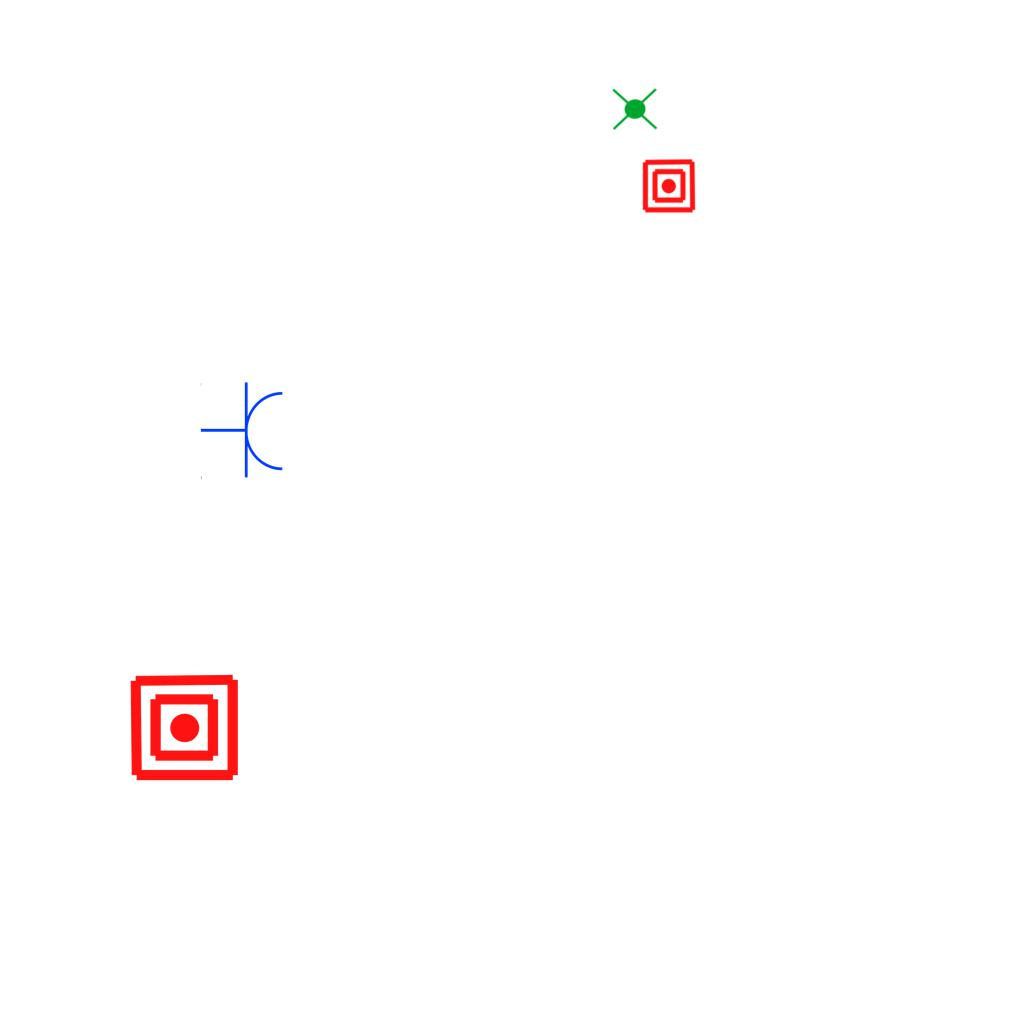NAM-Nichtautomatischer_Melder: (128, 671, 241, 784), (641, 158, 697, 214)
Notlichtbaustein_in_Allgemeinbeleuchtug_engebaut_Einbau_(1UG_und_2UG_Aufbauvaria: (610, 83, 660, 134)
Schukosteckdose_einfach: (200, 381, 287, 481)
